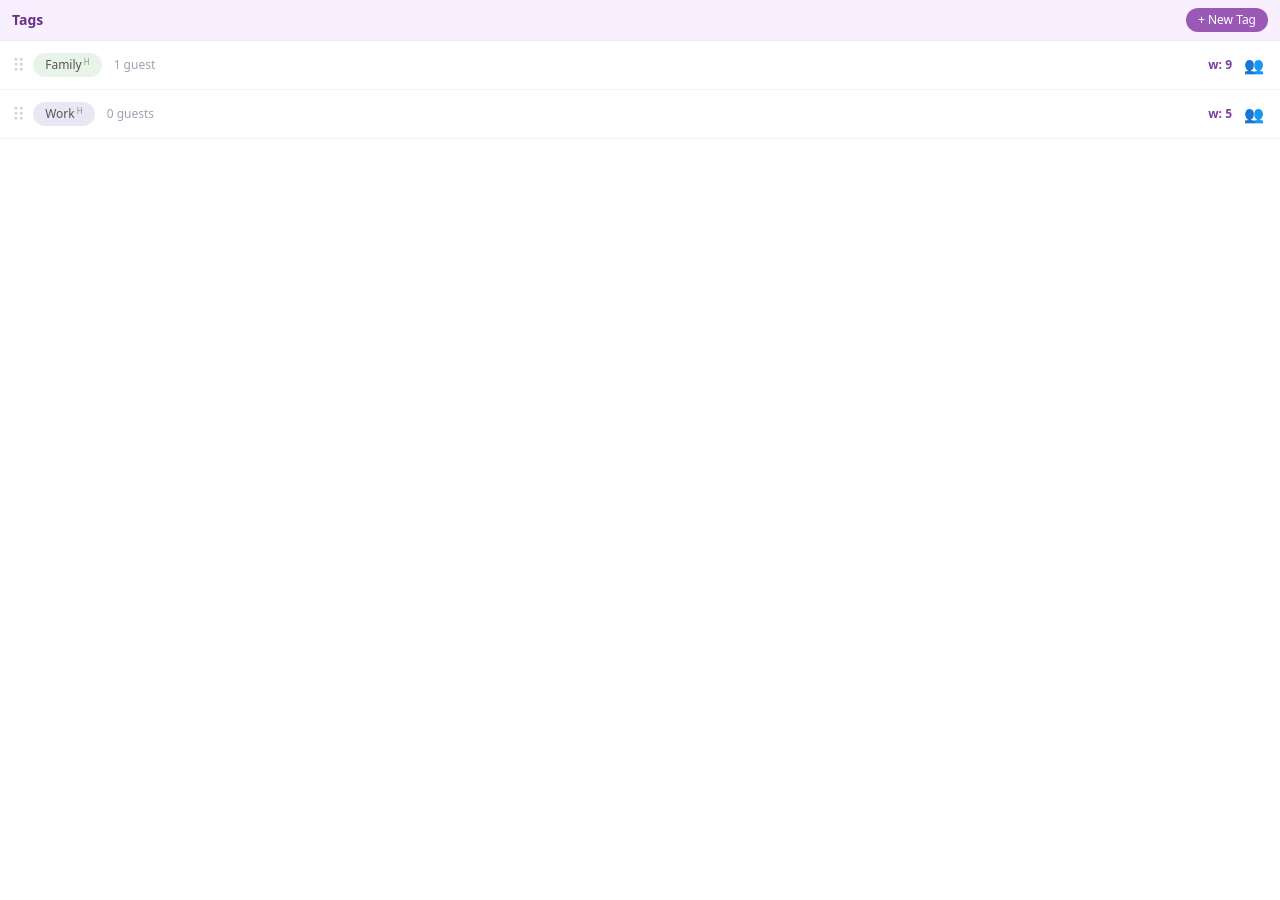
Test: TagsManager › opens GuestTagAssignSheet when assign button clicked
Click the button named "assign guests" at (1254, 65), box [1240,53,1268,77]
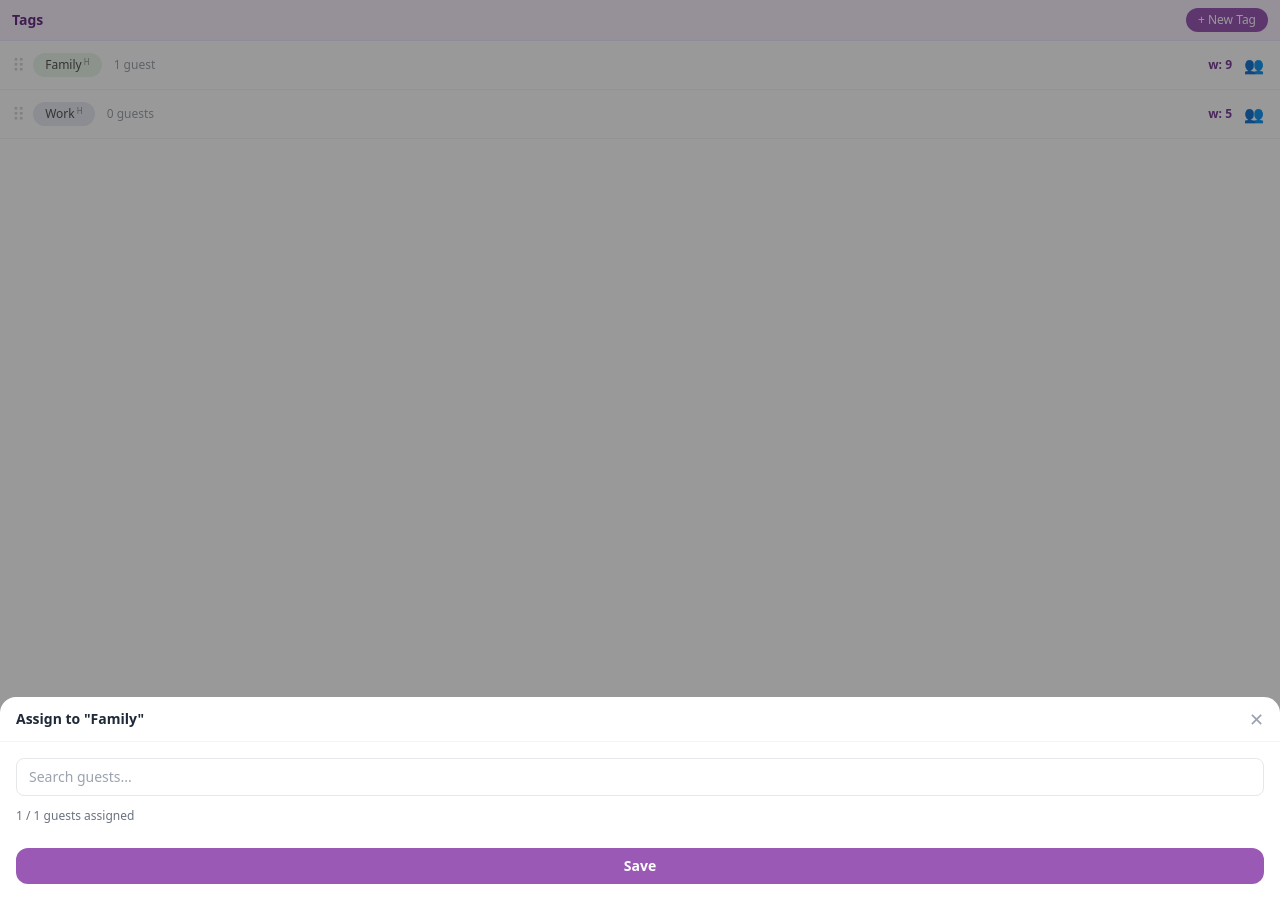
Check: the heading "Assign to \"Family\"" is shown, box [16,709,144,729]
